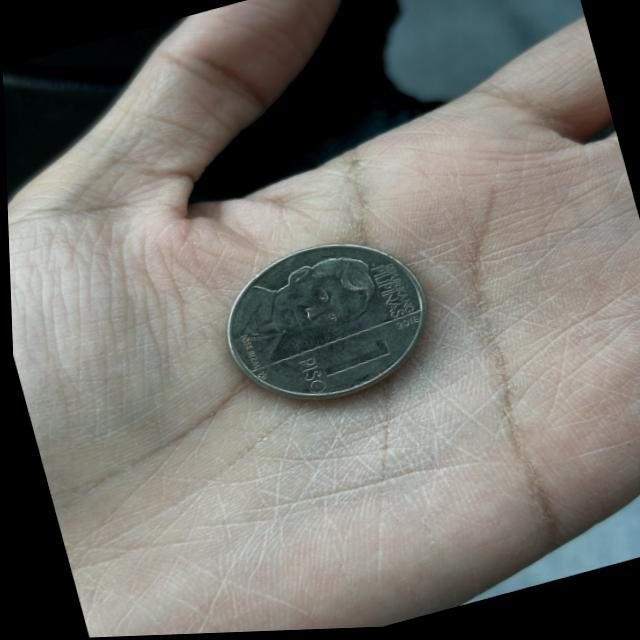1_New_Front: (292, 330, 394, 399)
